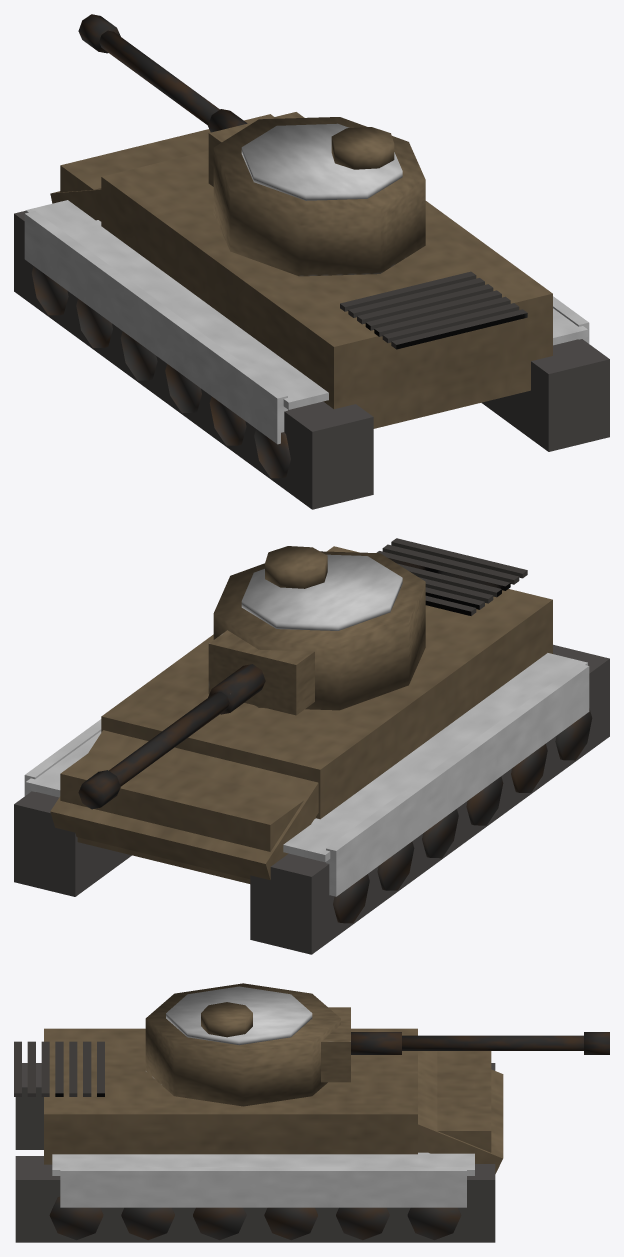
Rendered from tank.glb.
3 renders of one model, top to bottom at view 1: azimuth 30°, elevation 25°; view 2: azimuth 150°, elevation 25°; view 3: azimuth 270°, elevation 25°, orthographic. The views are drawn at different scales.
Parts seen in each view (by area): view 1: hull, turret; view 2: hull, turret; view 3: hull, turret.
Boxes of the visible parts, left/top/right/bottom form: hull: left=14, top=114, right=609, bottom=509; turret: left=78, top=14, right=425, bottom=276; hull: left=14, top=538, right=609, bottom=954; turret: left=78, top=546, right=425, bottom=809; hull: left=14, top=1028, right=503, bottom=1242; turret: left=145, top=983, right=609, bottom=1106.
Bounding box in the file's own units: 3.56 × 2.5 × 7.33.
Materials: 4 (4 with a texture image).
